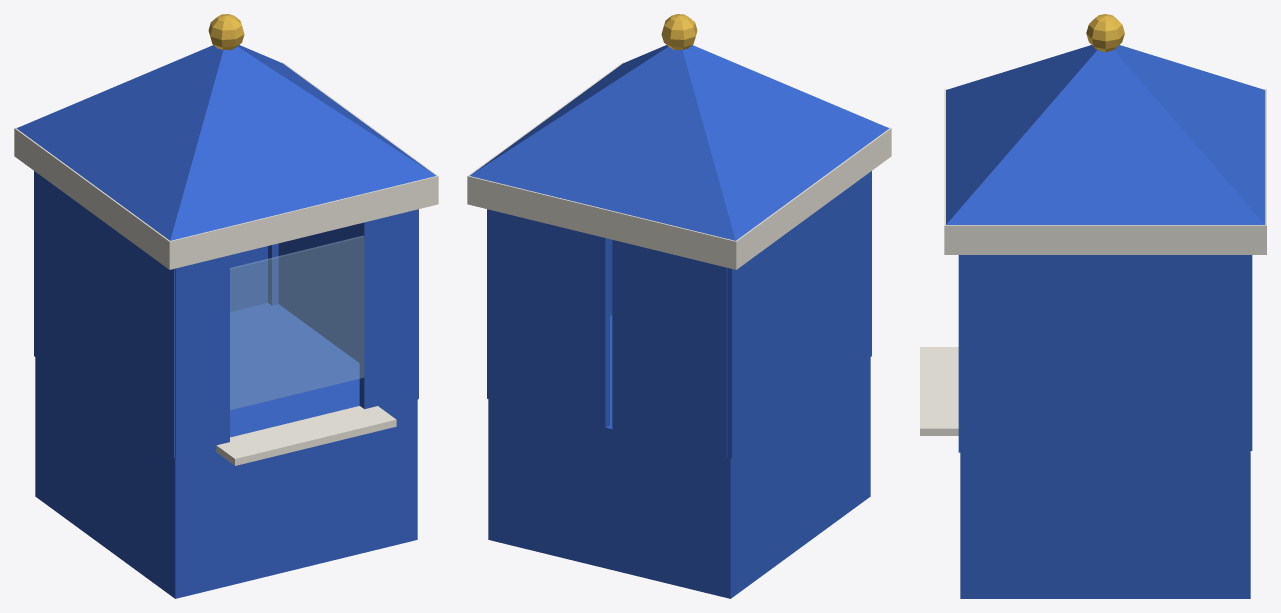
The model's file is ticket_booth.glb.
The picture shows the model from 3 angles, left to right: view 1: azimuth 30°, elevation 25°; view 2: azimuth 150°, elevation 25°; view 3: azimuth 270°, elevation 25°; orthographic projection. The views are drawn at different scales.
Visible parts, largest first — view 1: walls_ferris_blue, top_ferris_blue, glass_booth_glass, top_fair_white, counter_fair_white, top_fair_gold; view 2: walls_ferris_blue, top_ferris_blue, top_fair_white, top_fair_gold; view 3: walls_ferris_blue, top_ferris_blue, top_fair_white, counter_fair_white, top_fair_gold.
Boxes of the visible parts, x1=… form: walls_ferris_blue: x1=34, y1=171, x2=418, y2=598; top_ferris_blue: x1=16, y1=45, x2=435, y2=240; glass_booth_glass: x1=230, y1=236, x2=363, y2=409; top_fair_white: x1=14, y1=62, x2=438, y2=269; counter_fair_white: x1=215, y1=406, x2=396, y2=465; top_fair_gold: x1=208, y1=14, x2=244, y2=50; walls_ferris_blue: x1=487, y1=171, x2=871, y2=598; top_ferris_blue: x1=470, y1=45, x2=889, y2=240; top_fair_white: x1=467, y1=62, x2=891, y2=269; top_fair_gold: x1=661, y1=14, x2=697, y2=50; walls_ferris_blue: x1=958, y1=255, x2=1252, y2=598; top_ferris_blue: x1=946, y1=45, x2=1265, y2=224; top_fair_white: x1=944, y1=89, x2=1266, y2=254; counter_fair_white: x1=920, y1=347, x2=958, y2=435; top_fair_gold: x1=1086, y1=14, x2=1124, y2=52.
Size of the model in its own units: 2 by 3.57 by 2.15.
